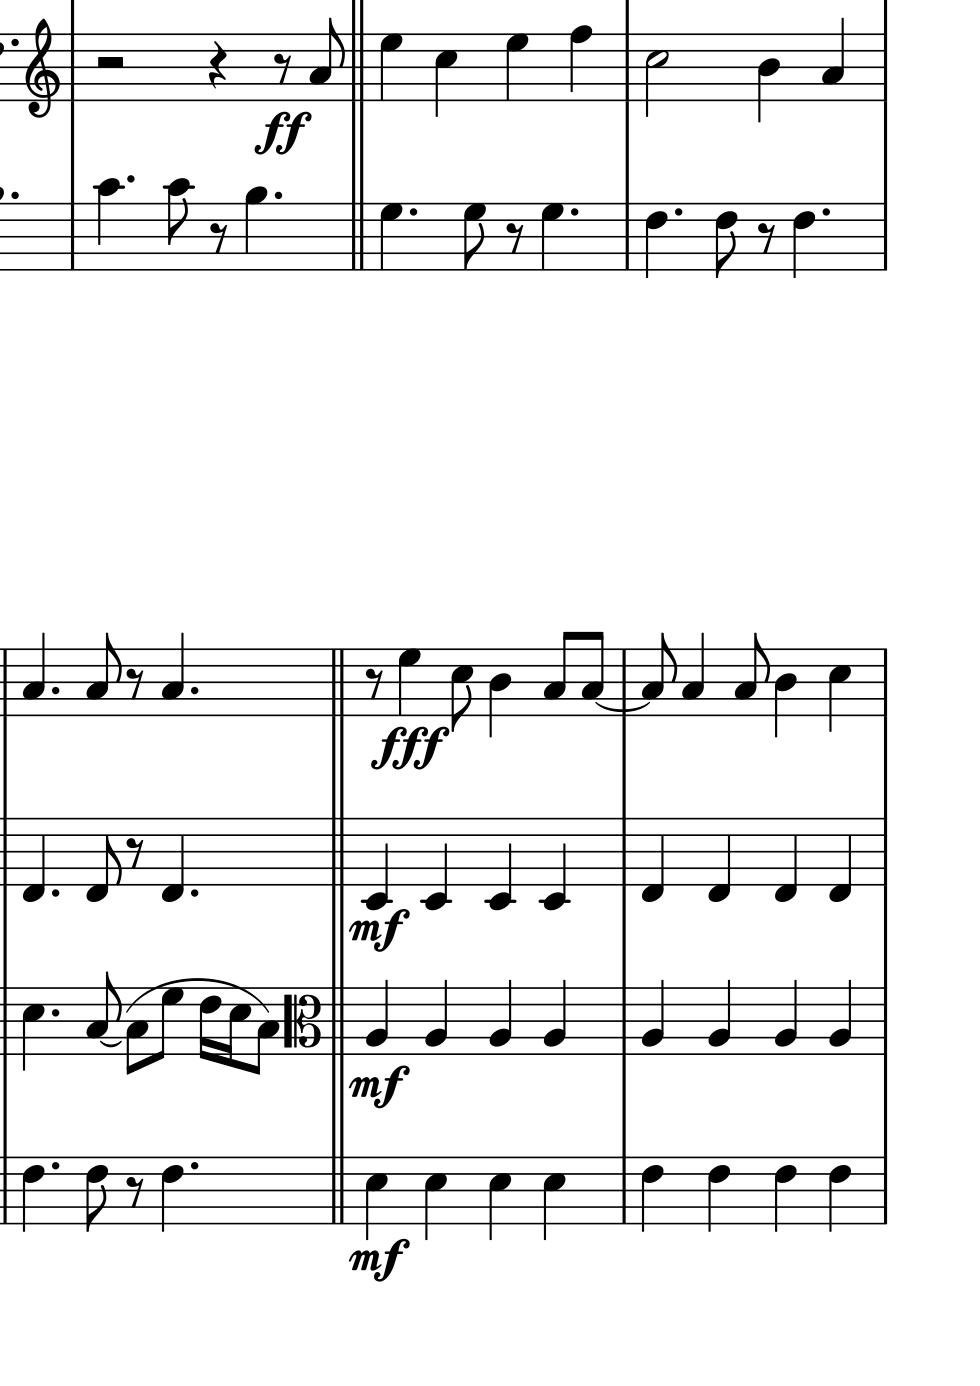16_5: (222, 986, 251, 1069)
16_6: (197, 986, 221, 1062)
2_5: (641, 30, 670, 120)
4_-1: (705, 815, 734, 905), (638, 815, 666, 905), (772, 815, 800, 903), (159, 815, 186, 903), (827, 815, 854, 903), (20, 817, 47, 903)
4_-2: (484, 815, 515, 913), (362, 815, 392, 911), (421, 815, 451, 913), (539, 815, 568, 913)
4_10: (92, 177, 124, 274)
4_2: (486, 976, 514, 1057), (540, 977, 568, 1058), (638, 977, 667, 1057), (705, 976, 733, 1057), (772, 976, 800, 1057), (363, 977, 390, 1055), (827, 978, 855, 1056), (423, 977, 450, 1057)
4_3: (820, 15, 847, 103), (159, 630, 187, 718), (680, 630, 706, 717), (21, 631, 47, 718)
4_4: (755, 31, 782, 124), (772, 647, 798, 740), (487, 647, 512, 739)
4_5: (540, 1154, 567, 1241), (433, 31, 459, 119), (362, 1154, 388, 1242), (19, 985, 46, 1072), (486, 1155, 512, 1242), (826, 646, 852, 734), (422, 1154, 448, 1242)
4_6: (641, 201, 670, 280), (771, 1154, 798, 1235), (638, 1154, 665, 1234), (704, 1154, 731, 1234), (826, 1154, 853, 1233), (158, 1155, 183, 1233), (790, 201, 816, 279), (20, 1155, 45, 1232)
4_7: (502, 31, 531, 103), (377, 31, 405, 103), (377, 201, 405, 271), (538, 200, 565, 271), (396, 647, 422, 717)
4_8: (566, 24, 594, 102)
4_9: (242, 185, 270, 273)
8_-1: (83, 815, 121, 905)
8_10: (160, 176, 194, 273)
8_3: (307, 15, 346, 101), (84, 631, 121, 718), (84, 970, 120, 1057), (640, 631, 676, 717), (733, 631, 768, 717), (248, 985, 280, 1077), (542, 629, 574, 717), (123, 986, 148, 1078), (579, 629, 603, 718)
8_5: (448, 647, 473, 735)
8_6: (81, 1154, 110, 1234), (711, 201, 739, 281)
8_7: (153, 985, 183, 1063), (461, 201, 487, 271)
Cclef: (281, 986, 323, 1057)
Double_barline: (325, 1157, 353, 1224), (325, 818, 352, 885), (325, 648, 350, 716), (346, 203, 370, 271), (327, 986, 349, 1055), (348, 32, 369, 101)
Gclef: (23, 17, 60, 118)
Rests2: (91, 53, 128, 73)
Rests4: (206, 40, 230, 91)
Rests8: (207, 220, 230, 255), (125, 664, 147, 700), (503, 221, 525, 256), (124, 835, 145, 871), (272, 51, 294, 85), (363, 666, 384, 701), (123, 1175, 144, 1210), (755, 220, 775, 256)
Single_barline: (62, 33, 81, 101), (615, 987, 633, 1055), (875, 648, 893, 715), (615, 819, 633, 885), (615, 1157, 633, 1224), (876, 988, 893, 1056), (619, 33, 636, 100), (875, 1157, 892, 1224), (64, 204, 81, 269), (876, 34, 892, 101), (876, 819, 892, 885), (876, 204, 892, 269), (619, 204, 635, 268), (616, 648, 631, 713), (1, 988, 14, 1055), (1, 647, 13, 716), (1, 818, 13, 885), (1, 1157, 13, 1222)
Slur: (594, 702, 651, 710), (97, 1040, 123, 1048)
dot: (48, 683, 62, 698), (8, 35, 22, 49), (7, 189, 21, 203), (187, 683, 200, 697), (48, 1006, 62, 1020), (48, 1159, 62, 1173), (671, 205, 684, 220), (819, 205, 832, 220), (123, 173, 136, 187), (270, 190, 284, 203), (188, 885, 200, 899), (187, 1159, 200, 1172), (568, 205, 580, 220), (49, 885, 62, 898), (406, 206, 418, 220)
ff: (252, 108, 312, 160)
fff: (366, 723, 444, 773)
mf: (346, 1063, 412, 1111), (347, 1238, 412, 1286), (347, 908, 412, 953)
